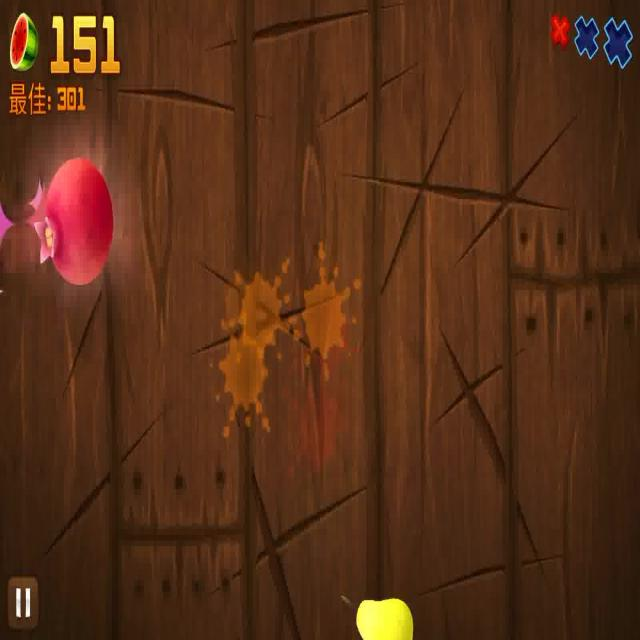fruit: (37, 152, 115, 280), (338, 594, 413, 640)
